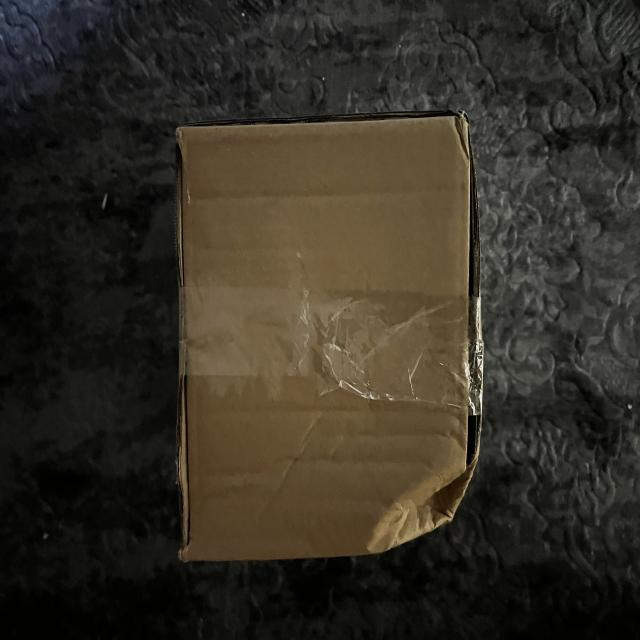damaged: (171, 109, 489, 566), (360, 448, 479, 558), (450, 100, 475, 172)
